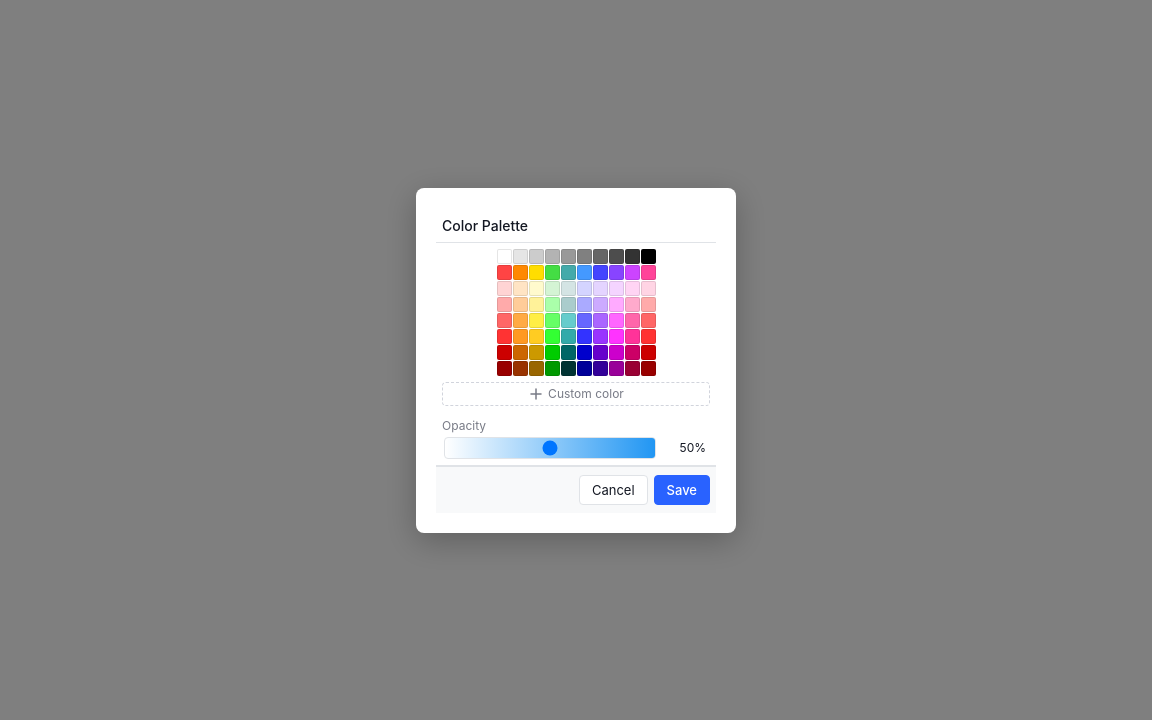
Test: ColorPickerDialog › should show/hide custom color picker
Click the button "Custom color".
click(576, 394)  # box 442,382 -> 710,406
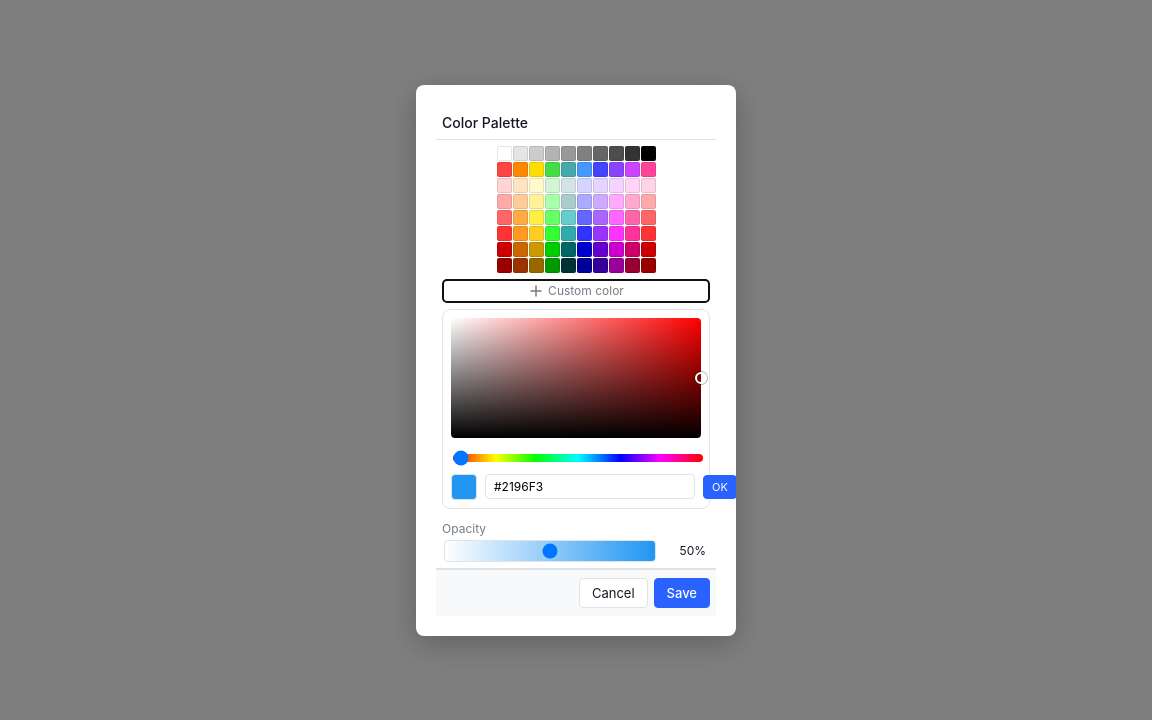
Now the button "OK" is shown, box 703,474 -> 736,498
Click the button "Custom color".
click(576, 290)  # box 442,278 -> 710,302
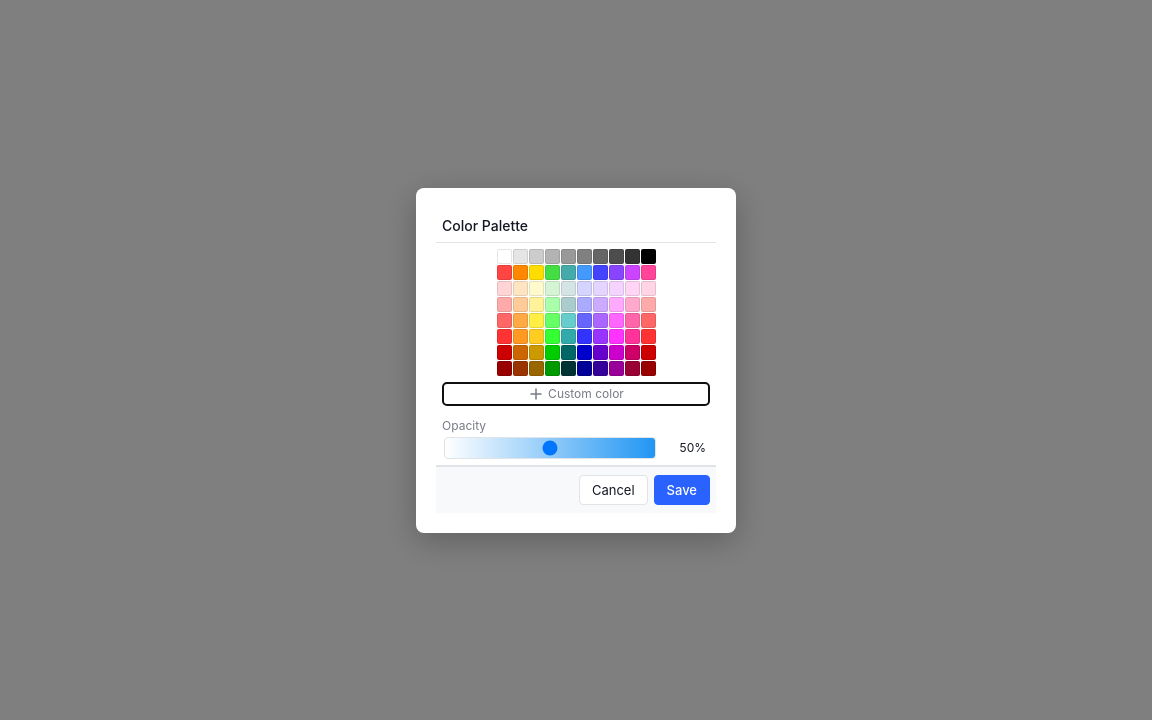
Now the button "OK" is gone
